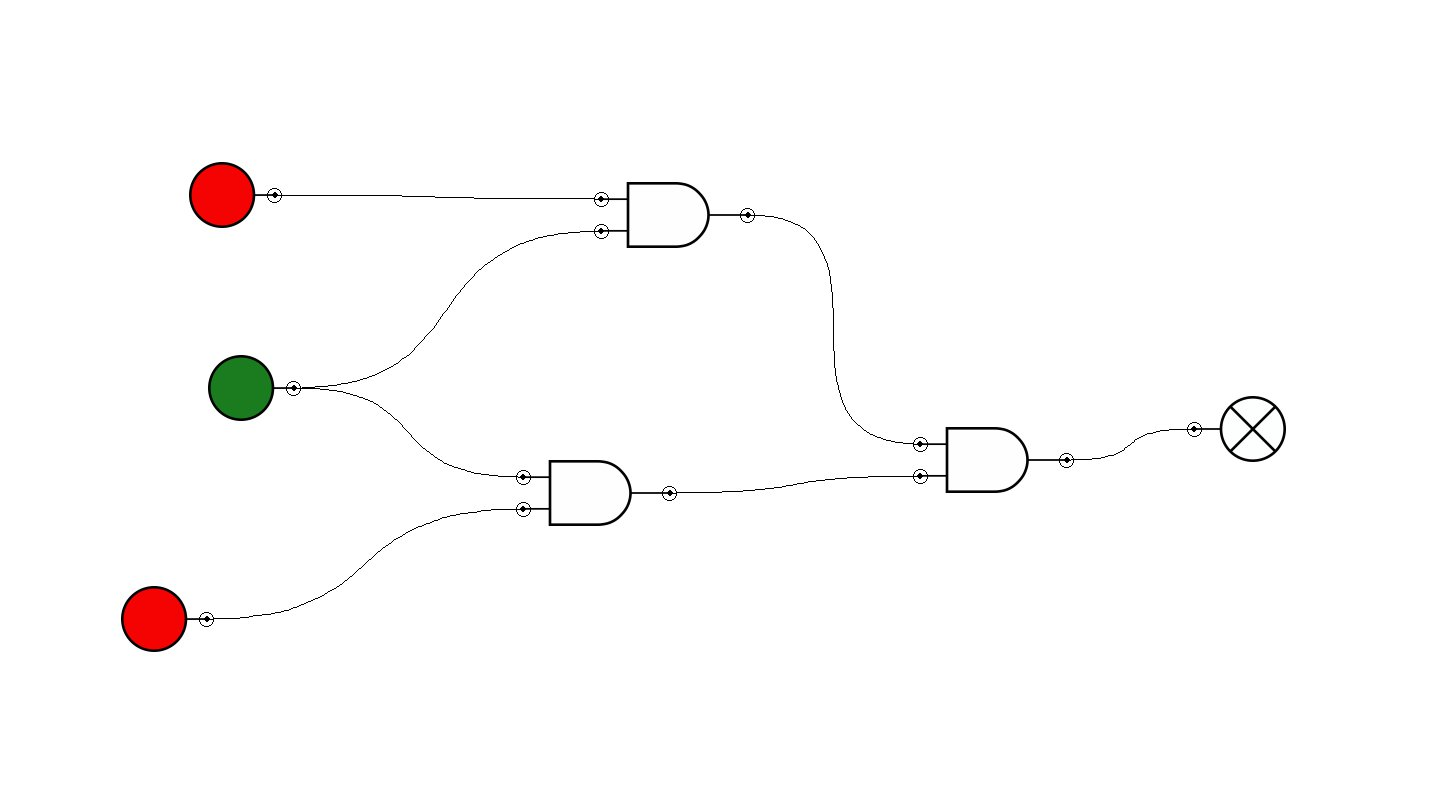and: (913, 427, 1074, 493), (516, 460, 677, 526), (594, 182, 755, 248)
bulb: (1187, 396, 1286, 462)
switch_False: (121, 586, 214, 652), (189, 162, 282, 228)
switch_True: (208, 355, 301, 421)
